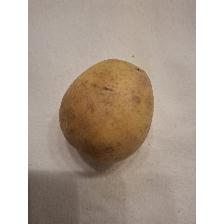Kartoffel: (56, 55, 156, 165)
